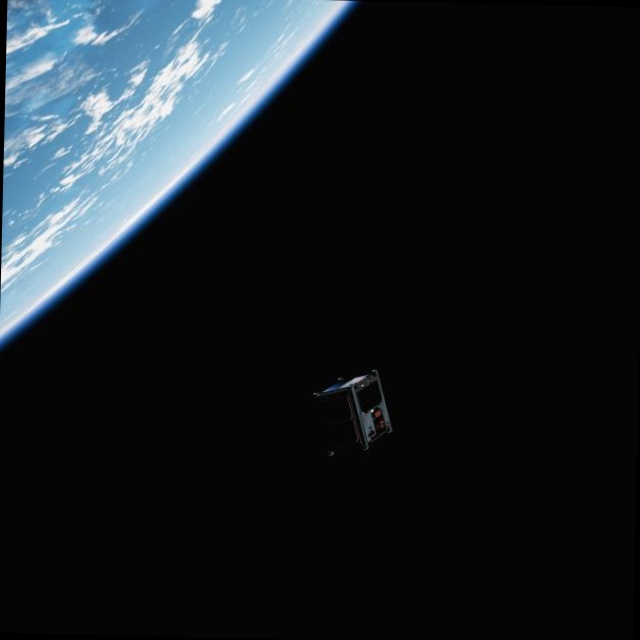satellite: (308, 366, 400, 468)
